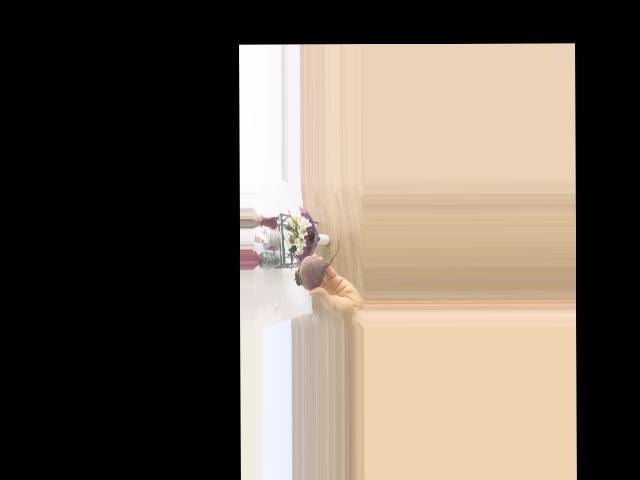beet: (294, 238, 339, 290)
